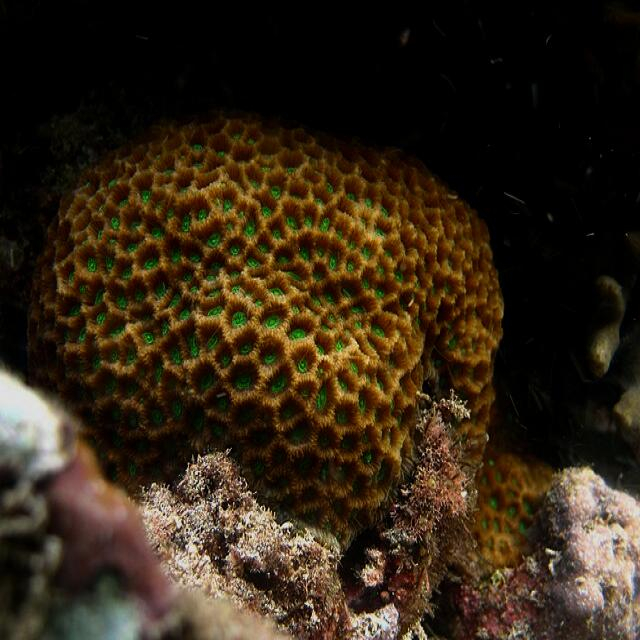Coral: (26, 106, 507, 558), (474, 450, 558, 570)
